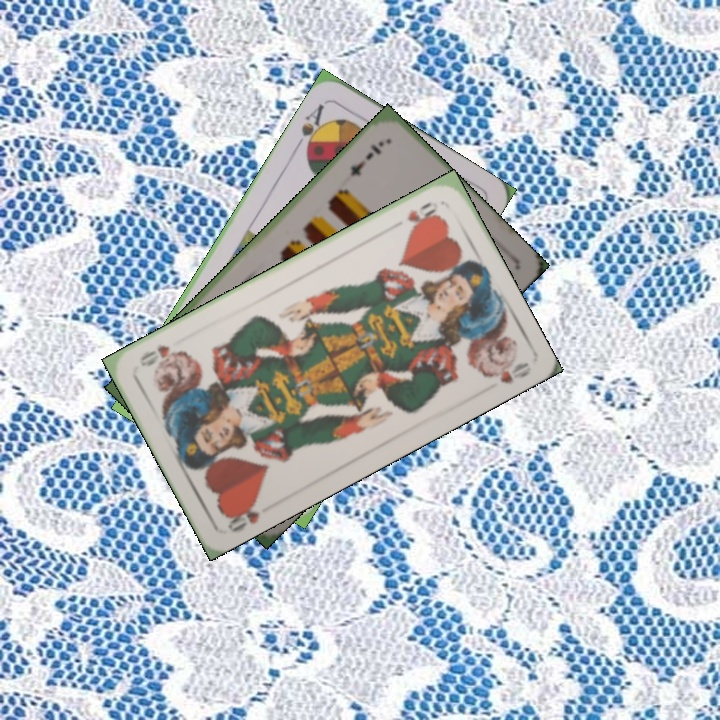E7: (346, 137, 387, 179)
HO: (221, 496, 262, 535), (403, 198, 440, 230)
SA: (291, 99, 330, 157)
